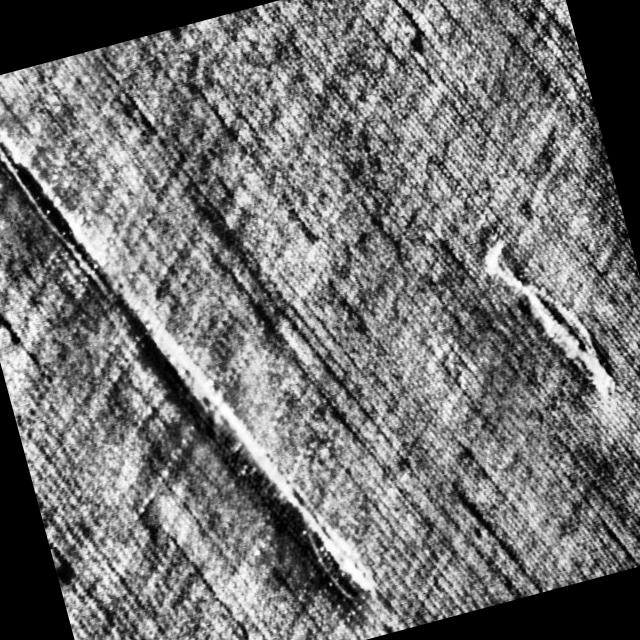gray stitch: (222, 382, 402, 637), (474, 215, 623, 429), (0, 129, 123, 306)
